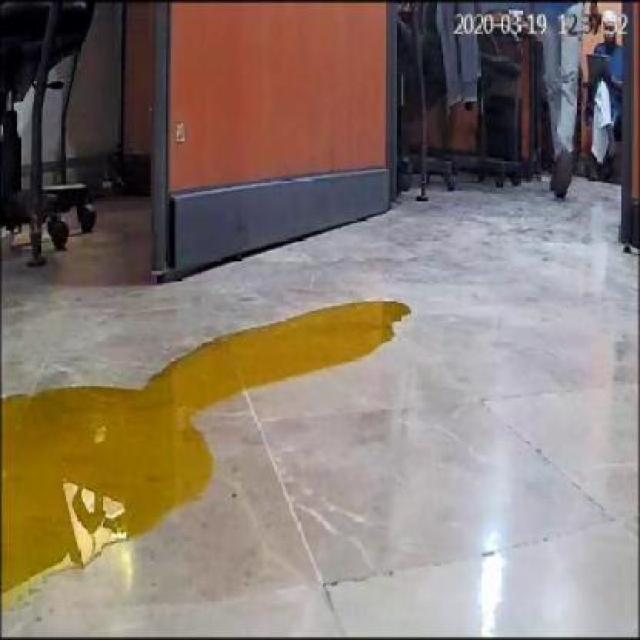spillage: (1, 301, 411, 595)
